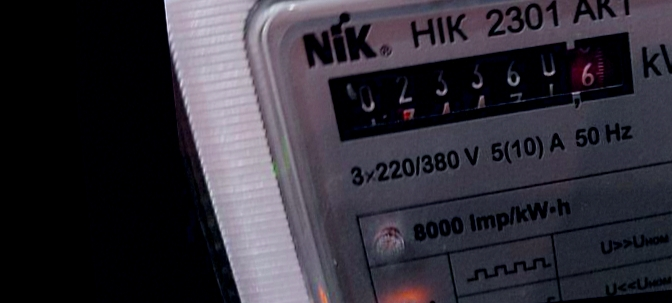0: (354, 80, 379, 116), (535, 47, 560, 80)
2: (392, 71, 416, 106)
3: (465, 57, 488, 91), (428, 66, 450, 99)
6: (500, 55, 525, 90), (576, 56, 600, 91)
screen: (309, 21, 655, 150)
